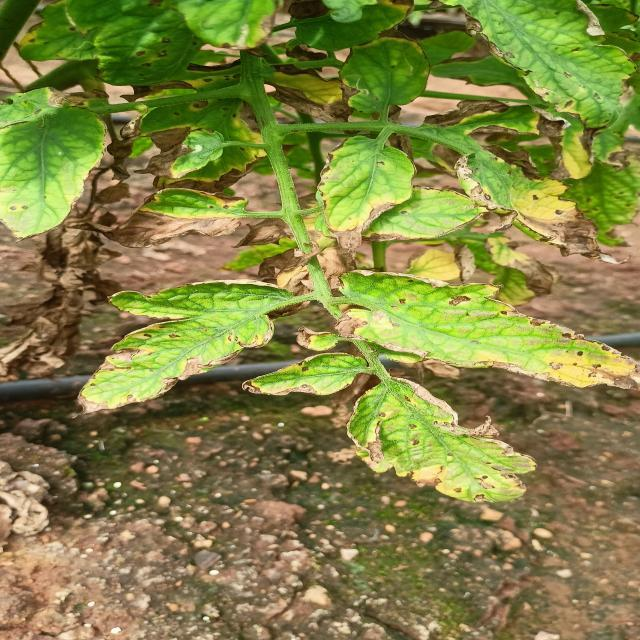Tomato mosaic virus leaf: (327, 270, 640, 392), (66, 278, 293, 417), (340, 378, 544, 506), (453, 0, 640, 135), (450, 142, 634, 270), (306, 137, 417, 260), (68, 186, 259, 249), (123, 30, 245, 91), (236, 351, 364, 397), (132, 124, 232, 179), (0, 199, 69, 249)
